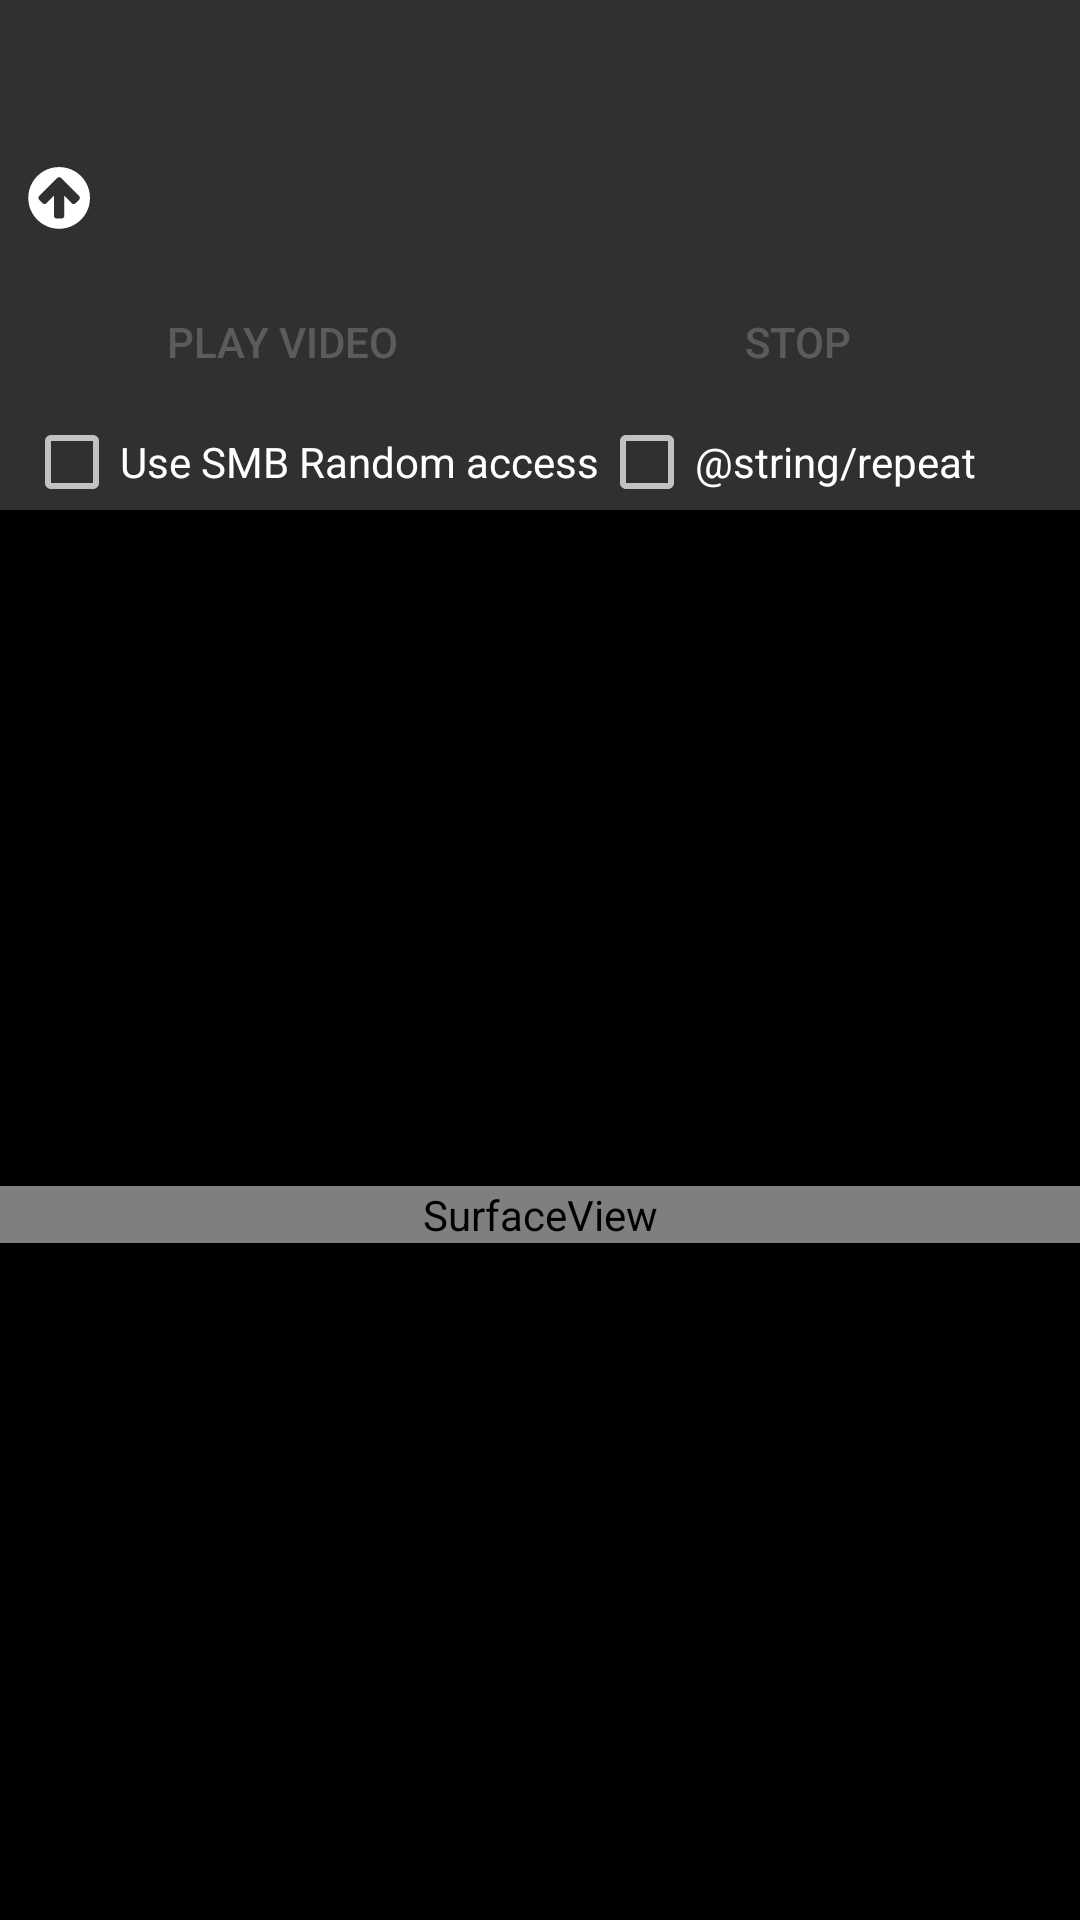

Screen size 1080 × 1920. Icon name, then its center in pixels as [x,y]:
circle arrow up: [59,198]
